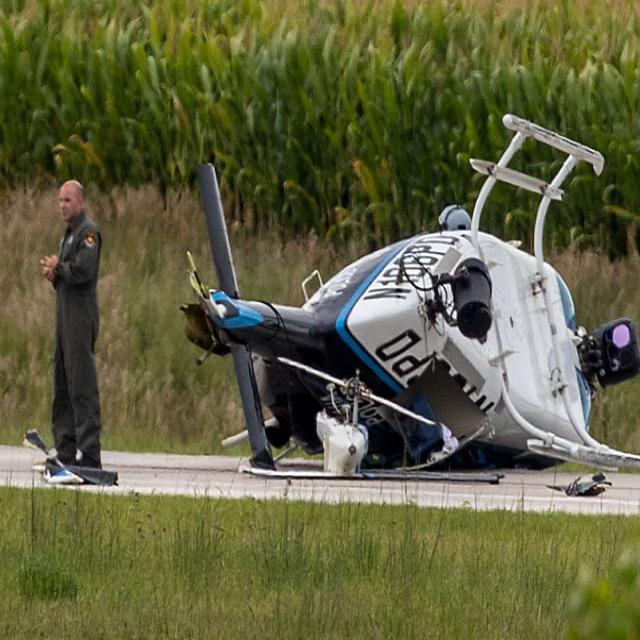helicopter: (173, 109, 640, 487)
